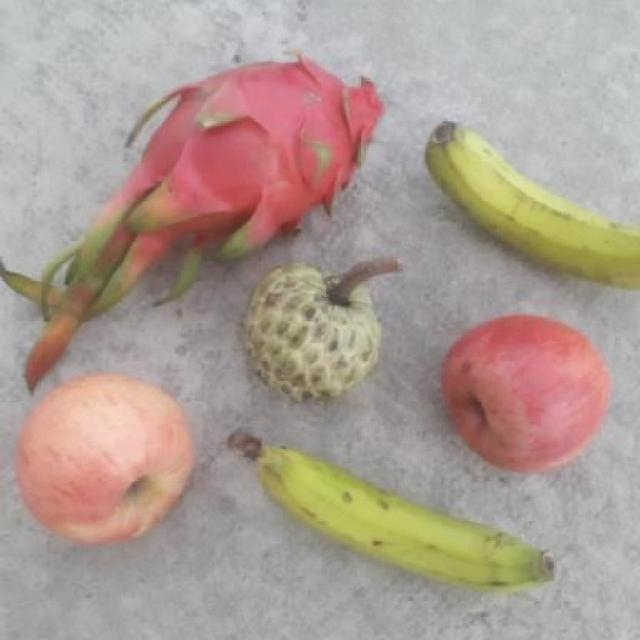apple: (133, 52, 384, 259), (12, 372, 197, 552), (439, 313, 616, 482)
banana: (226, 436, 569, 599), (424, 116, 640, 298)
sugar apple: (240, 260, 388, 405)
